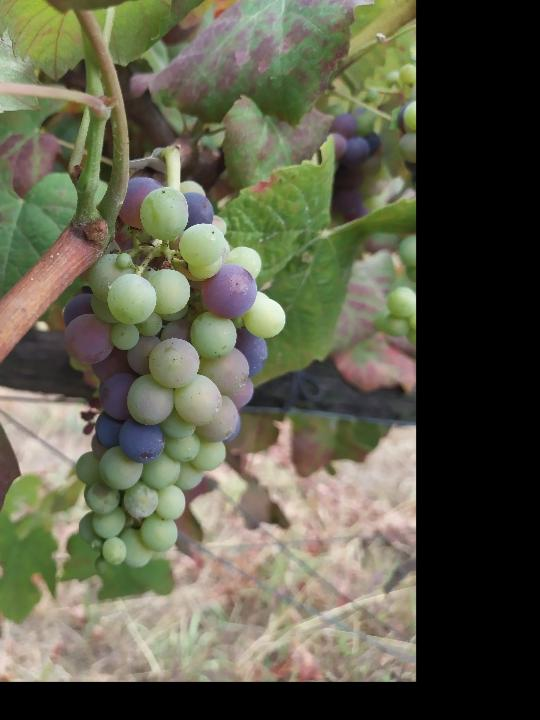grape: (60, 176, 290, 569)
